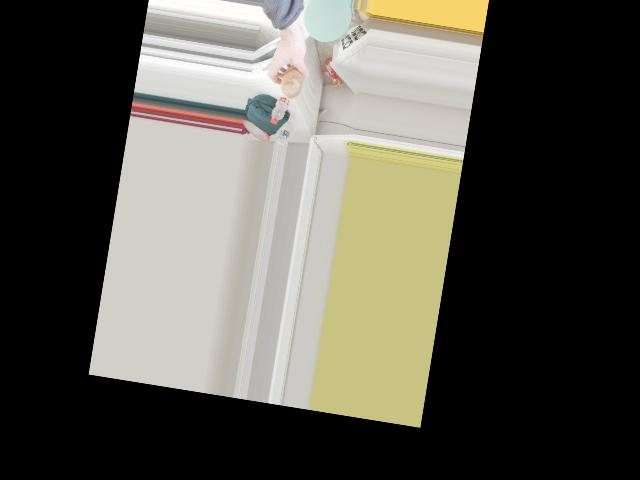sweet_potato: (274, 59, 308, 99)
